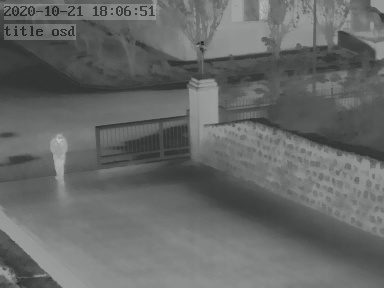person: (51, 131, 70, 185)
